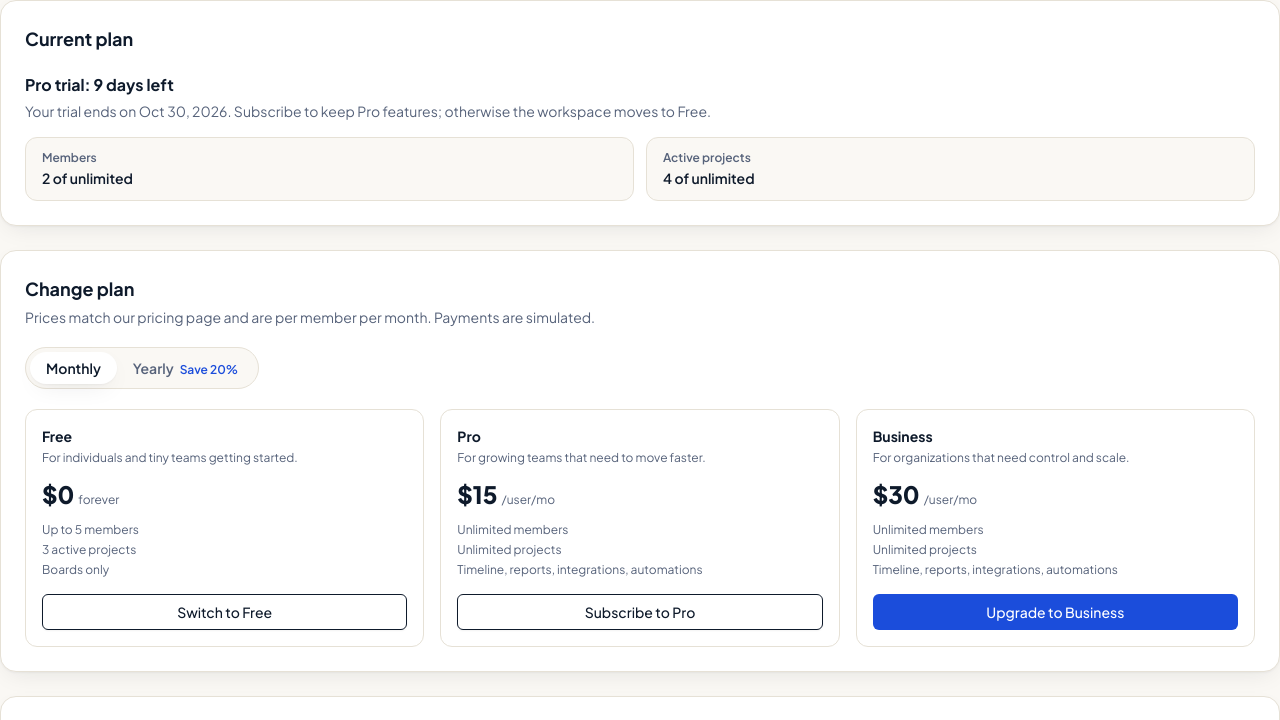
Test: BillingPanel › explains a blocked downgrade
What coordinates should you click on to do the following:
click the button "Switch to Free"
I would click on:
 (225, 612)
Its box is [42,594,407,630].
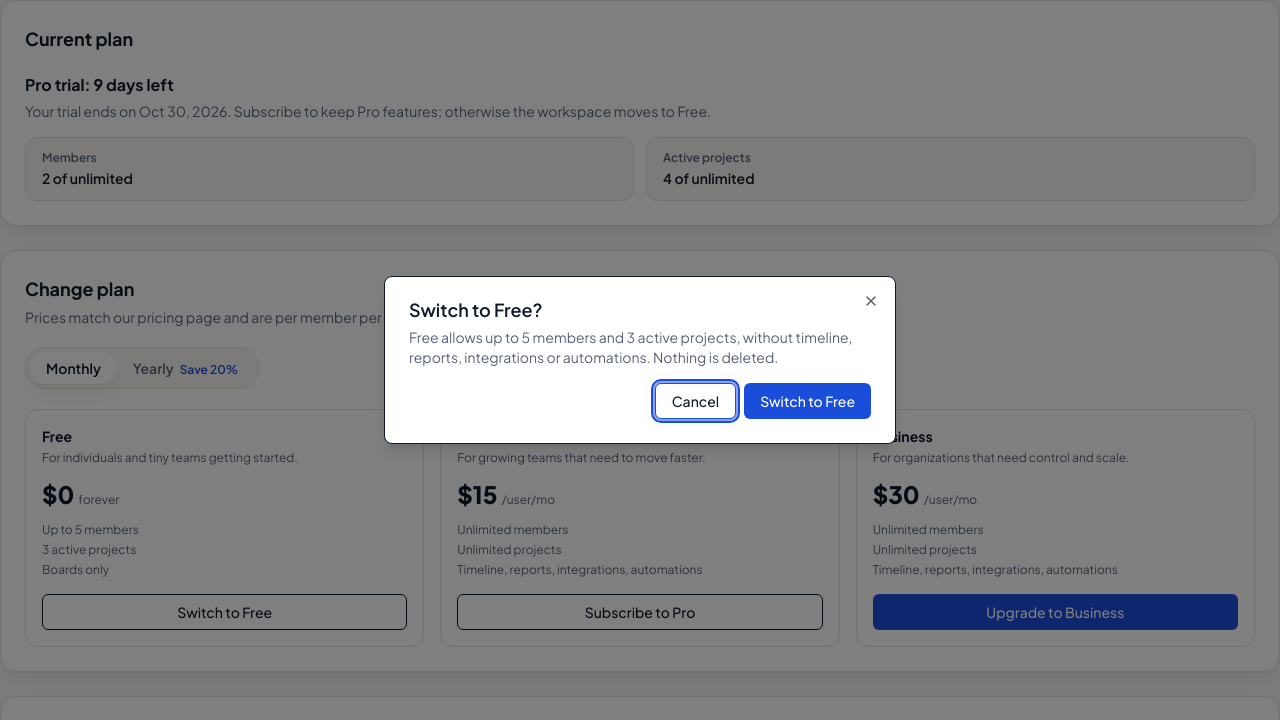
What coordinates should you click on to do the following:
click the button "Switch to Free"
I would click on:
 (808, 401)
Its box is [744,383,871,419].
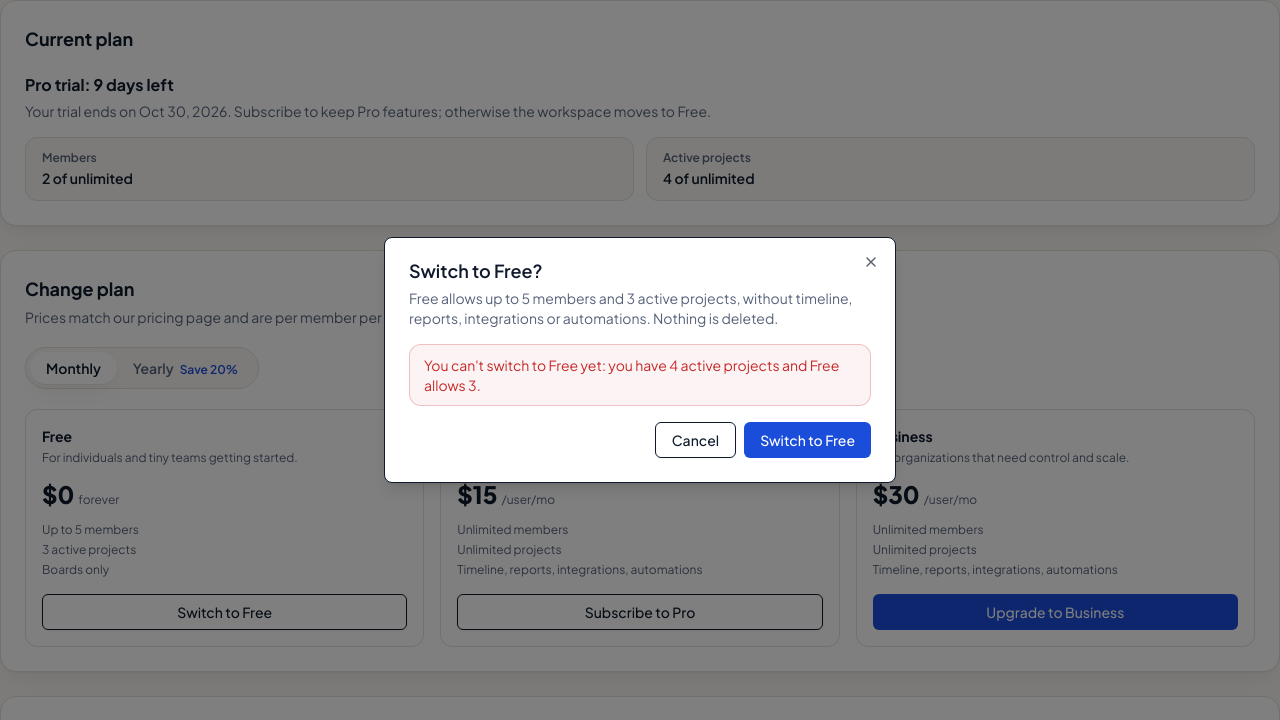
Now the message shows "4 active projects and Free allows 3", box [424,356,839,394]
